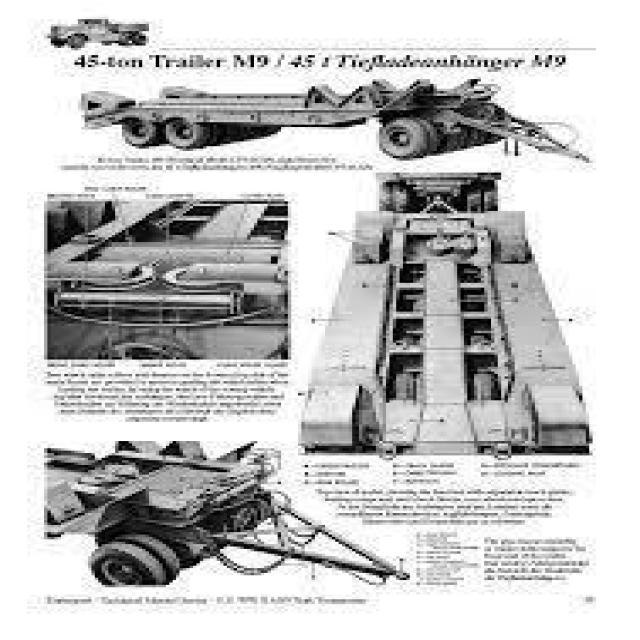Tanks: (318, 169, 562, 452), (59, 442, 402, 624)
